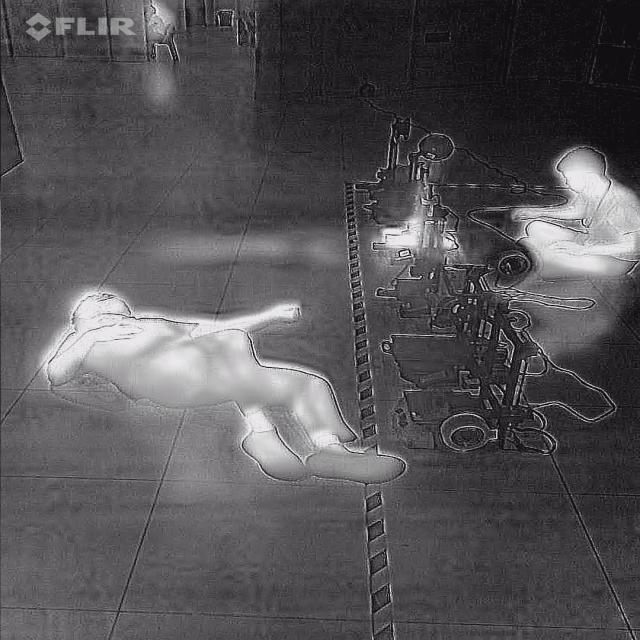Victim: (33, 282, 420, 495), (504, 142, 640, 286)
